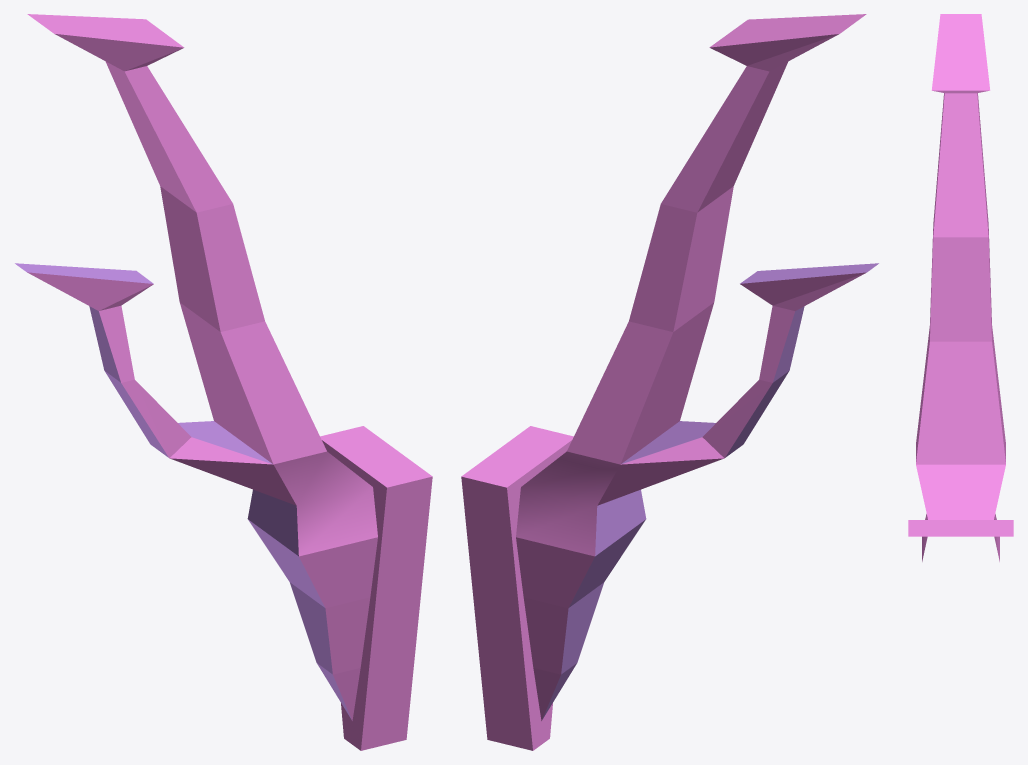
Rendered from torch.gltf.
The picture shows the model from 3 angles, left to right: view 1: azimuth 30°, elevation 25°; view 2: azimuth 150°, elevation 25°; view 3: azimuth 270°, elevation 25°; orthographic projection. The views are drawn at different scales.
Visible parts, largest first — view 1: torch; view 2: torch; view 3: torch.
Part boxes in pixels (x1,y1,x2,y2): torch: [15, 14, 432, 750]; torch: [461, 14, 878, 750]; torch: [908, 14, 1013, 561].
Size of the model in its own units: 0.6613 by 1.33 by 0.21.
